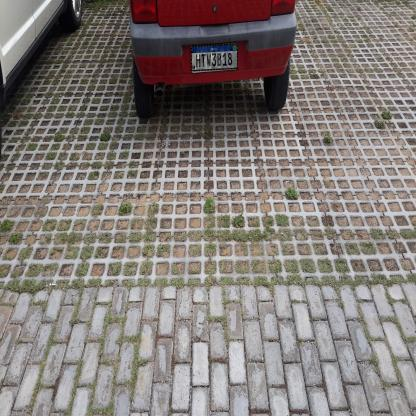PlacaM: (191, 44, 238, 72)
